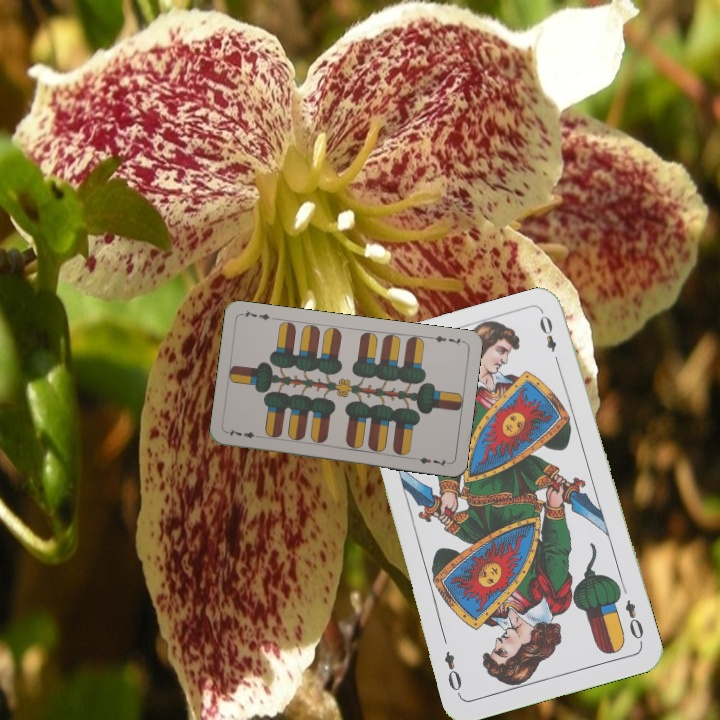E7: (426, 332, 467, 348), (224, 425, 264, 441)
EO: (621, 596, 646, 647)
